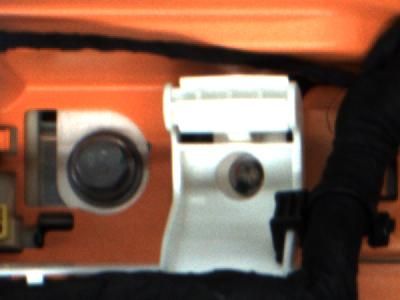nut_b: (55, 126, 143, 211)
